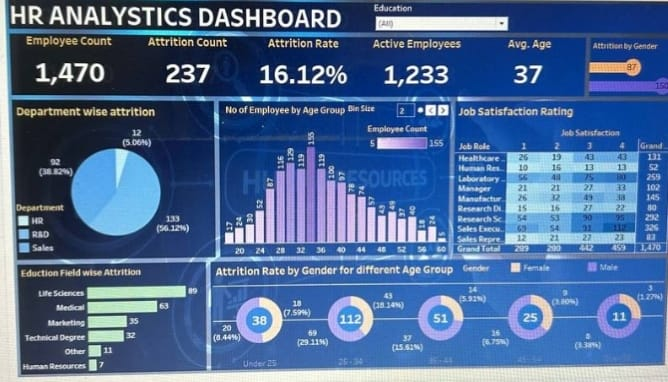

The dashboard page shown, as its layout file describes it:
{"tool":"powerbi","page":{"name":"Page 1","canvas":[1280,720],"ordinal":0},"visuals":[{"type":"card","title":"Employee Count","fields":{"Values":["Sum(HR_Analytics.EmployeeCount)"]},"box":[0,79.6,220,149.6],"z":0},{"type":"card","title":"Attrition Count","fields":{"Values":["Sum(HR_Analytics.Attrition Count)"]},"box":[219.6,79.6,220,149.6],"z":1000},{"type":"card","title":"Active Employees","fields":{"Values":["HR_Analytics.Active Employees"]},"box":[658.7,79.6,219.6,149.6],"z":2000},{"type":"card","title":"Avg. Age","fields":{"Values":["Avg(HR_Analytics.Age)"]},"box":[878.3,79.6,219.6,149.6],"z":3000},{"type":"card","title":"Attrition Rate","fields":{"Values":["HR_Analytics.Attrition rate"]},"box":[439.1,79.6,219.6,149.6],"z":4000},{"type":"barChart","fields":{"Category":["HR_Analytics.Gender"],"Y":["Sum(HR_Analytics.Attrition Count)"]},"box":[1097.9,79.6,182.2,149.6],"z":5000},{"type":"pieChart","title":"Department wise Attrition","fields":{"Category":["HR_Analytics.Department"],"Y":["Sum(HR_Analytics.Attrition Count)"]},"box":[0,229.2,421,266.6],"z":6000},{"type":"columnChart","title":"No. of employees by Age Group","fields":{"Category":["HR_Analytics.AgeGroup"],"Series":["HR_Analytics.Gender"],"Y":["Sum(HR_Analytics.EmployeeCount)"]},"box":[420.5,229.5,466.1,253.7],"z":7000},{"type":"pivotTable","title":"Job Satisfaction Rating","fields":{"Rows":["HR_Analytics.JobRole"],"Columns":["HR_Analytics.JobSatisfaction"],"Values":["Sum(HR_Analytics.EmployeeCount)"]},"box":[886.6,229.5,393.4,253.7],"z":8000},{"type":"clusteredBarChart","title":"Education Field wise Attrition","fields":{"Category":["HR_Analytics.EducationField"],"Y":["CountNonNull(HR_Analytics.Attrition)"]},"box":[0,495,421.7,225],"z":9000},{"type":"donutChart","title":"Under 25","fields":{"Category":["HR_Analytics.Gender"],"Y":["Sum(HR_Analytics.Attrition Count)"],"Series":["HR_Analytics.AgeGroup"]},"box":[421.1,538.9,172.2,181.1],"z":10000},{"type":"textbox","box":[420.5,483.2,859.5,55.6],"z":11000},{"type":"donutChart","title":"26-35","fields":{"Category":["HR_Analytics.Gender"],"Y":["Sum(HR_Analytics.Attrition Count)"],"Series":["HR_Analytics.AgeGroup"]},"box":[593,538.8,171,181],"z":12000},{"type":"donutChart","title":"36-45","fields":{"Category":["HR_Analytics.Gender"],"Y":["Sum(HR_Analytics.Attrition Count)"],"Series":["HR_Analytics.AgeGroup"]},"box":[764,538.8,171,181],"z":13000},{"type":"donutChart","title":"46-55","fields":{"Category":["HR_Analytics.Gender"],"Y":["Sum(HR_Analytics.Attrition Count)"],"Series":["HR_Analytics.AgeGroup"]},"box":[935.1,538.8,171,181],"z":14000},{"type":"donutChart","title":"Above 55","fields":{"Category":["HR_Analytics.Gender"],"Y":["Sum(HR_Analytics.Attrition Count)"],"Series":["HR_Analytics.AgeGroup"]},"box":[1106.1,538.8,173.9,181],"z":15000},{"type":"textbox","box":[0,0,763.7,79.6],"z":16000},{"type":"slicer","fields":{"Values":["HR_Analytics.EducationField"]},"box":[768.5,0,511.5,79.6],"z":17000}]}

Visuals, with their boxes in screenshot pixels (x1, y1, x2, y2), scaled from the page's 1280x720 canvas onto the 668x382 screenshot:
"Employee Count" card: <region>0, 42, 115, 122</region>
"Attrition Count" card: <region>115, 42, 229, 122</region>
"Active Employees" card: <region>344, 42, 458, 122</region>
"Avg. Age" card: <region>458, 42, 573, 122</region>
"Attrition Rate" card: <region>229, 42, 344, 122</region>
barChart - HR_Analytics.Gender x Sum(HR_Analytics.Attrition Count): <region>573, 42, 667, 122</region>
"Department wise Attrition" pieChart: <region>0, 122, 220, 263</region>
"No. of employees by Age Group" columnChart: <region>219, 122, 463, 256</region>
"Job Satisfaction Rating" pivotTable: <region>463, 122, 667, 256</region>
"Education Field wise Attrition" clusteredBarChart: <region>0, 263, 220, 381</region>
"Under 25" donutChart: <region>220, 286, 310, 381</region>
textbox: <region>219, 256, 667, 286</region>
"26-35" donutChart: <region>309, 286, 399, 381</region>
"36-45" donutChart: <region>399, 286, 488, 381</region>
"46-55" donutChart: <region>488, 286, 577, 381</region>
"Above 55" donutChart: <region>577, 286, 667, 381</region>
textbox: <region>0, 0, 399, 42</region>
slicer - HR_Analytics.EducationField: <region>401, 0, 667, 42</region>
